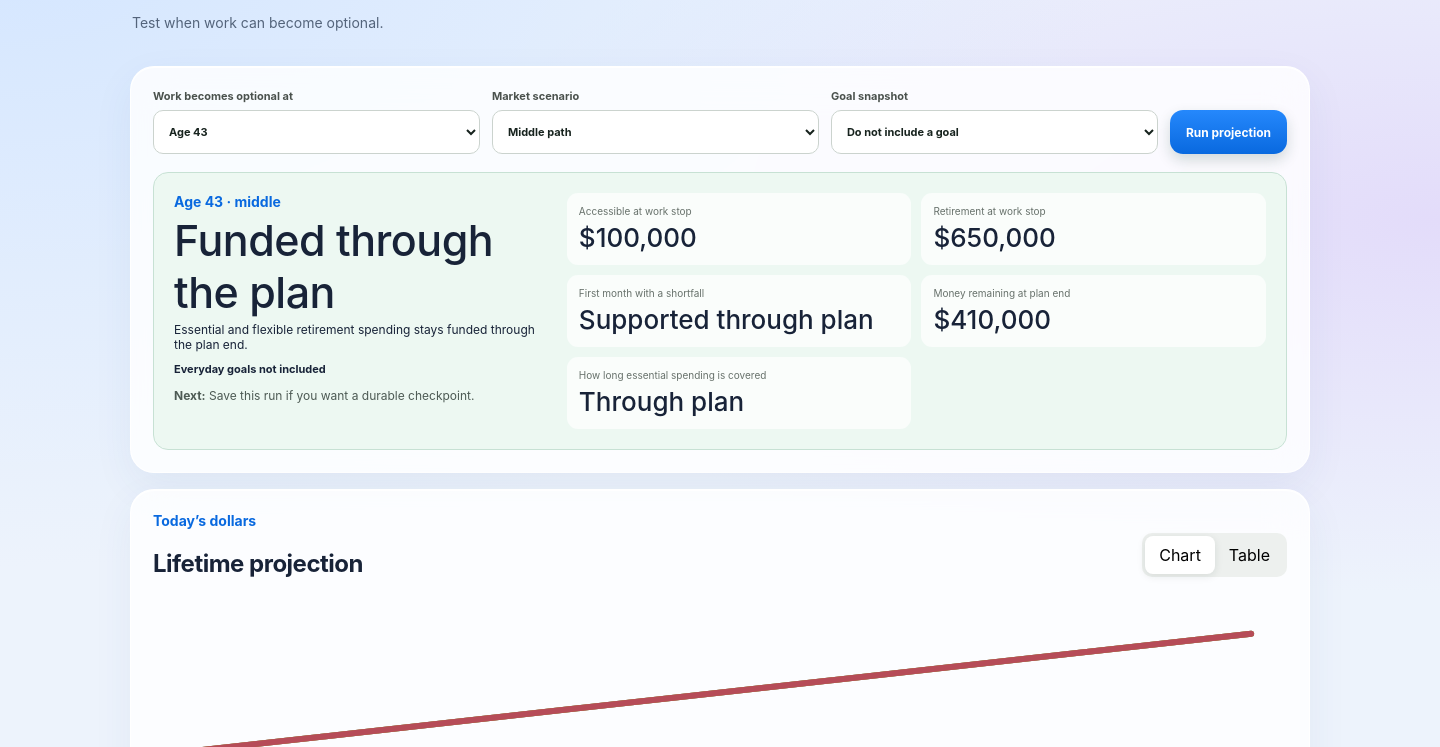
Test: Retirement › includes one named immutable goal only after selection and switches to the annual table
This screenshot has width=1440, height=747.
Expected: the heading "Funded through the plan" is shown, [174,214,547,318]
Select "Include Quiet place by the water" in the dropdown named "Operational goal inclusion" at [994, 132], box [831,110,1158,154]
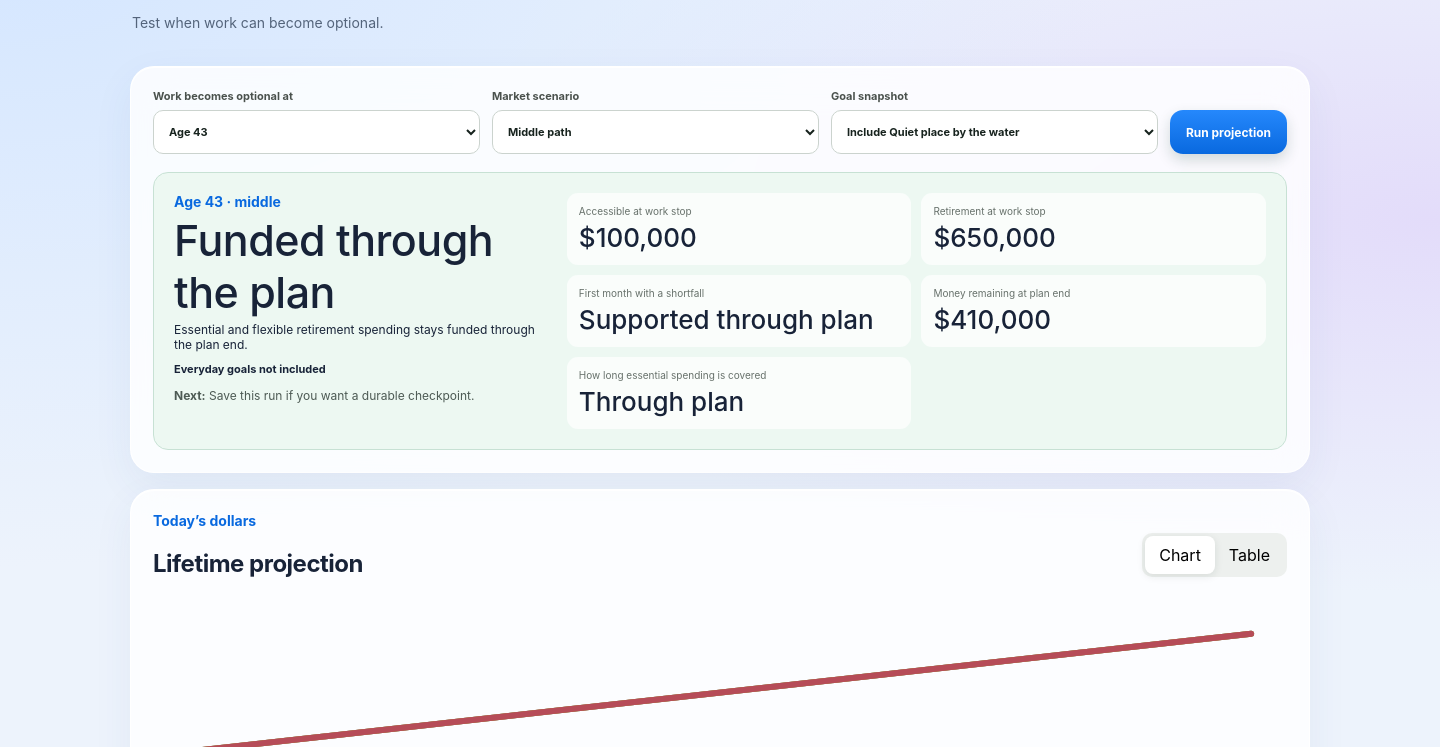
Click the button "Run projection".
click(1228, 132)  # box [1170,110,1287,154]
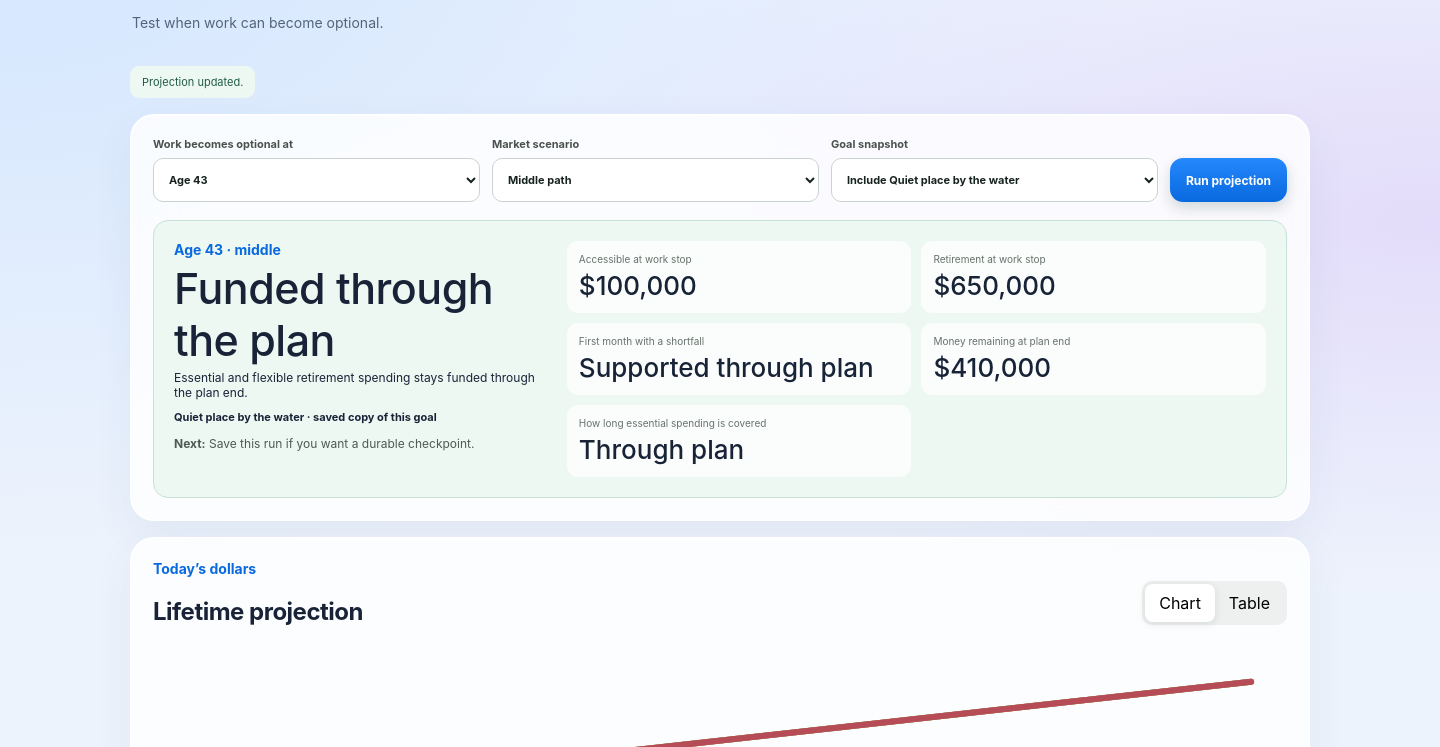
Click the button "Table".
click(1249, 603)  # box [1215,584,1284,622]
(page scrolled)
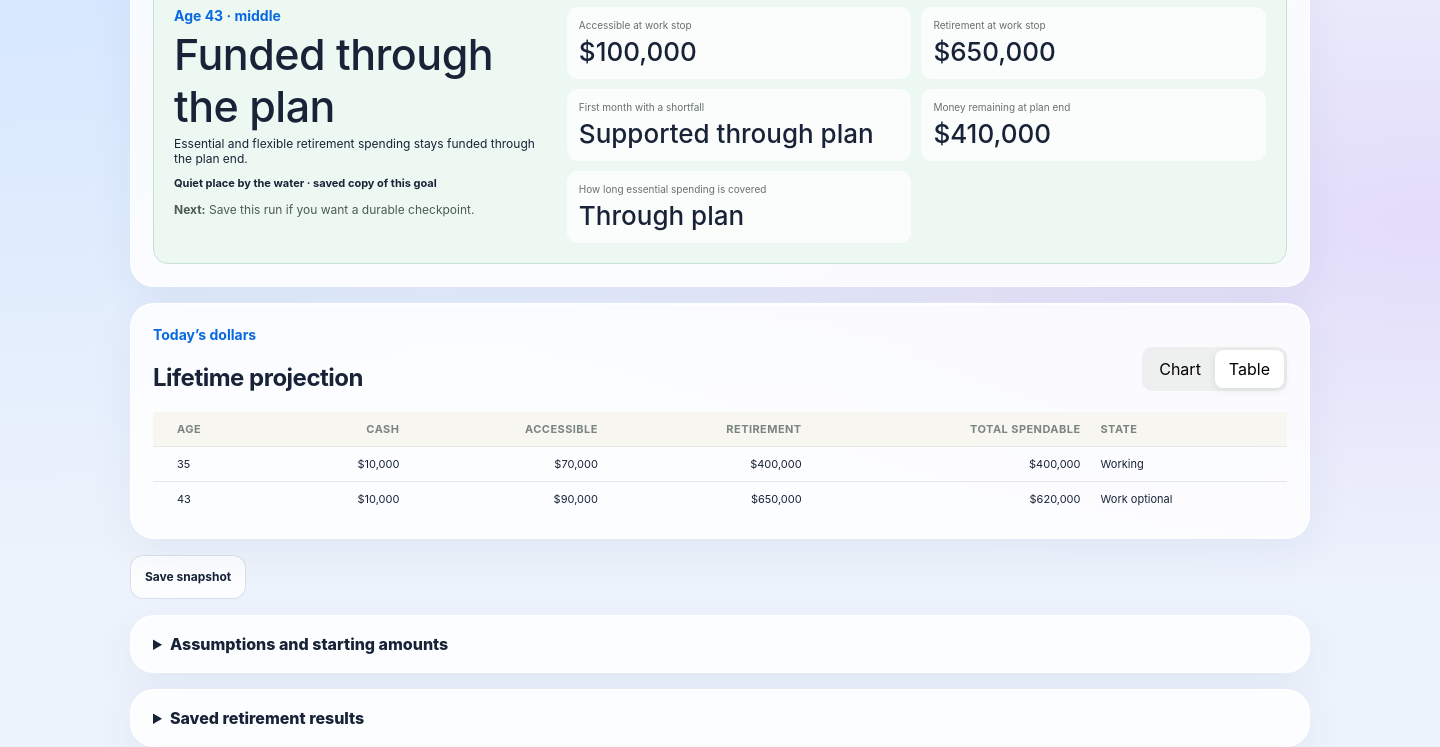
Expected: the table is shown, [153,412,1287,516]
